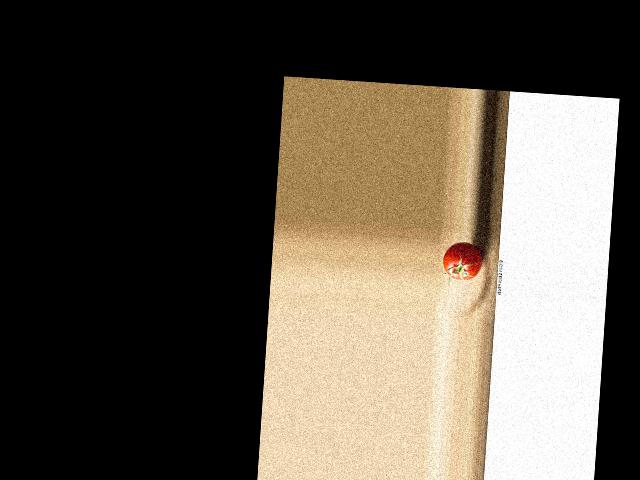tomato: (442, 241, 482, 282)
